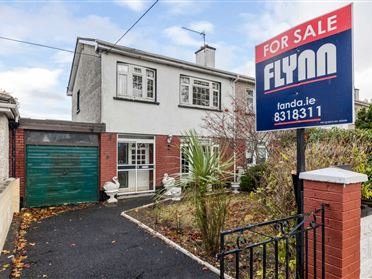property sign: (247, 2, 360, 134)
